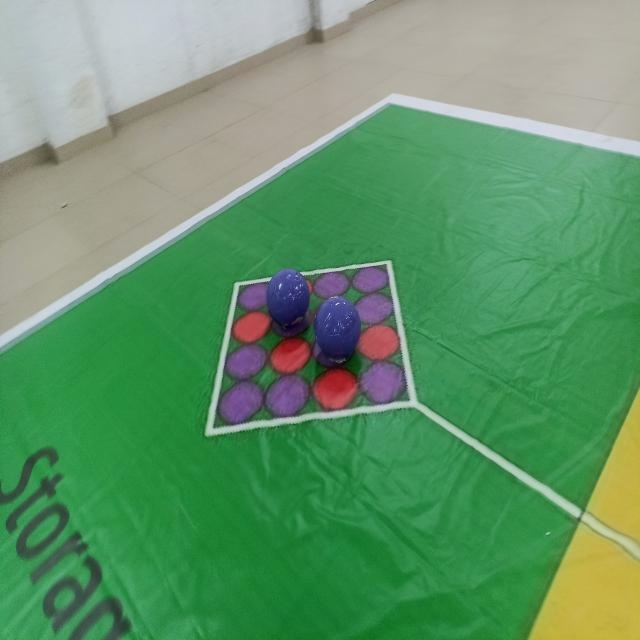purple_ball: (309, 291, 365, 365), (262, 265, 314, 336)
